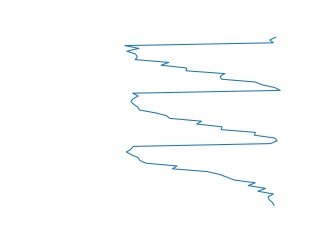distributaryMouthBar: (121, 35, 283, 207)
